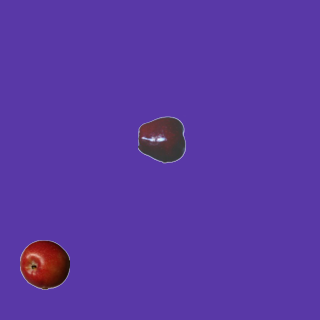Apple Braeburn: (19, 239, 69, 289)
Apple Red Delicious: (137, 114, 187, 164)
